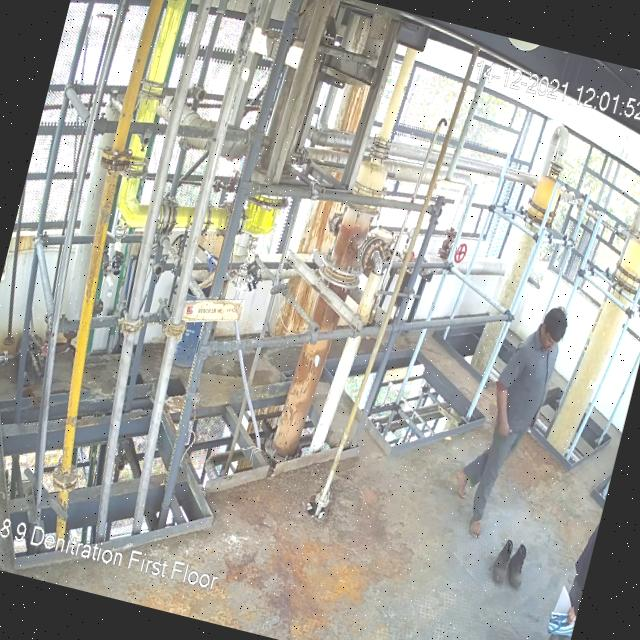boots: (500, 538, 536, 598), (485, 535, 516, 585)
no-boots: (442, 468, 473, 500), (462, 506, 488, 539)
